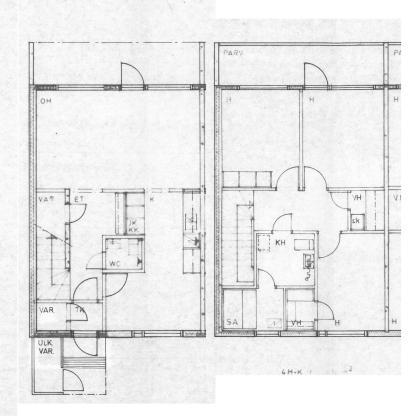bathroom: (219, 287, 287, 334), (103, 235, 142, 272)
door: (68, 326, 104, 358), (270, 164, 303, 195), (68, 275, 100, 306), (303, 163, 333, 193), (316, 232, 348, 260), (100, 271, 132, 299), (59, 366, 87, 394), (263, 211, 295, 232), (84, 248, 112, 272), (327, 189, 356, 212), (64, 299, 90, 324), (63, 199, 87, 226), (310, 299, 335, 322), (257, 268, 282, 290)
perimeter: (30, 86, 203, 335), (218, 87, 388, 334)
stairs: (31, 228, 71, 302)
window: (129, 325, 192, 340), (53, 82, 112, 94), (315, 328, 372, 340), (236, 83, 291, 94), (145, 83, 198, 94), (330, 83, 380, 94), (251, 326, 283, 342)
